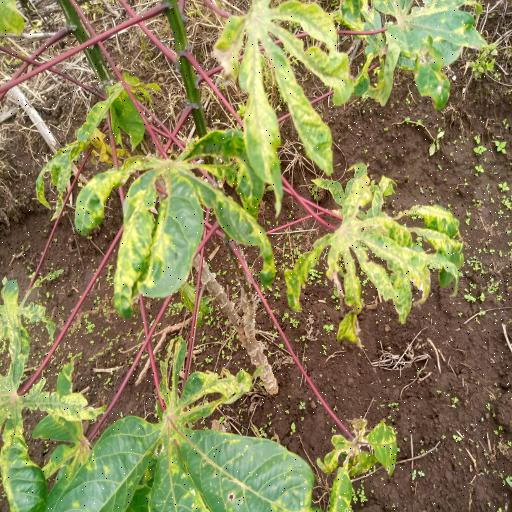Cassava_Mosaic: (56, 365, 310, 512), (78, 150, 273, 303), (296, 169, 470, 323), (218, 0, 347, 189)
